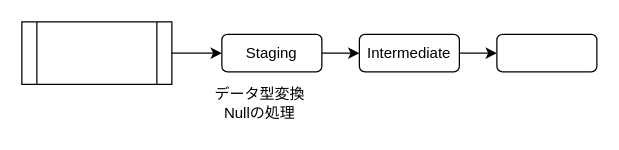
The diagram is 619 pixels wide and 150 high, and some of its shapes have lost their labels. Each missing label, with the centre of its shape:
Manufacturing data generator: point 96,52
marts: point 546,52
